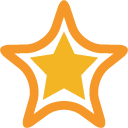background: (1, 2, 4, 6)
